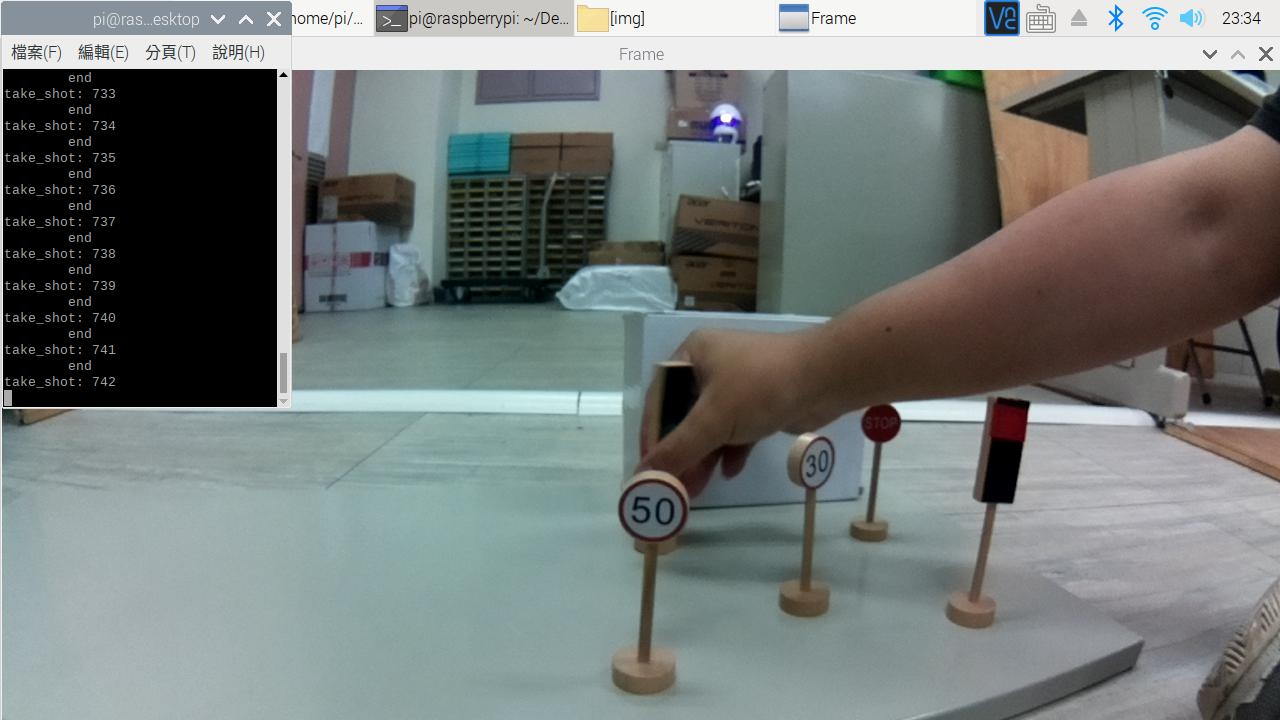Red: (969, 387, 1041, 524)
Speed30: (782, 435, 838, 495)
Speed50: (613, 474, 698, 543)
